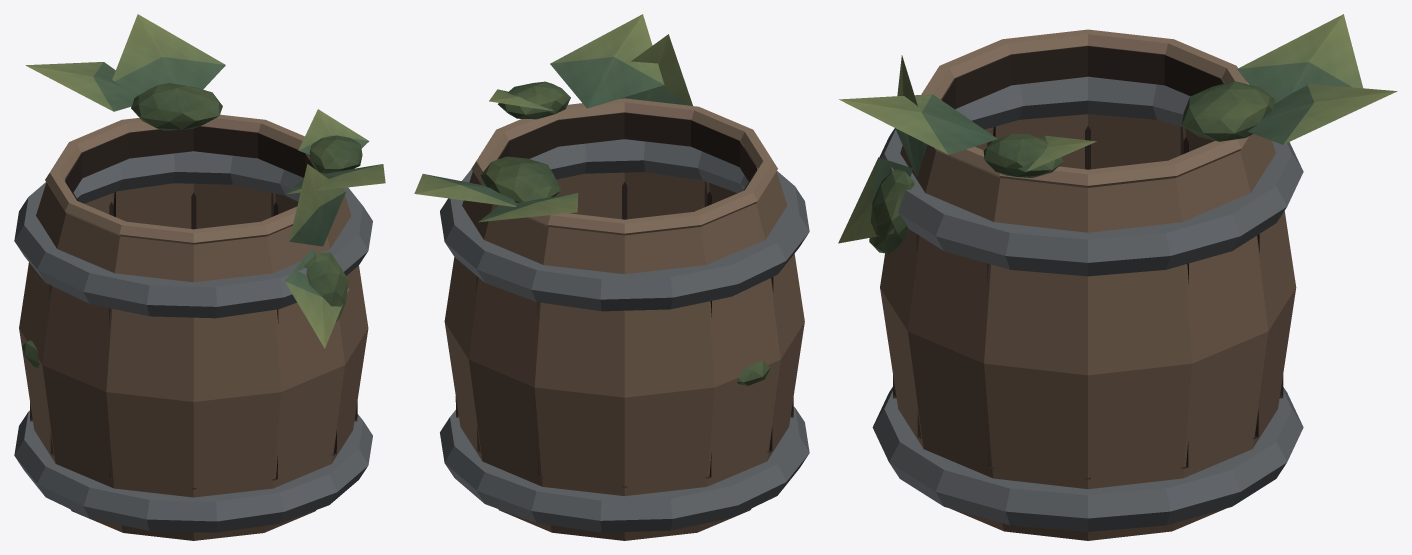
The model's file is kit_open_barrel.glb.
The picture shows the model from 3 angles, left to right: view 1: azimuth 30°, elevation 25°; view 2: azimuth 150°, elevation 25°; view 3: azimuth 270°, elevation 25°; orthographic projection. The views are drawn at different scales.
Parts seen in each view (by area): view 1: Open barrel staves, Open barrel iron hoop.001, Open barrel iron hoop, Open barrel rim, Barrel inner lip, Woodland shared curved ivy leaf.021, Woodland shared moss cushion.011, Woodland shared curved ivy leaf.022, Woodland shared curved ivy leaf.023, Woodland shared curved ivy leaf.024, Woodland shared moss cushion.012, Woodland shared moss cushion.009 (+2 smaller); view 2: Open barrel staves, Open barrel iron hoop.001, Open barrel iron hoop, Open barrel rim, Barrel inner lip, Woodland shared curved ivy leaf.018, Woodland shared moss cushion.011, Woodland shared curved ivy leaf.023, Woodland shared curved ivy leaf.021, Woodland shared moss cushion.009, Woodland shared curved ivy leaf.022, Woodland shared moss cushion.008 (+1 smaller); view 3: Open barrel staves, Open barrel iron hoop.001, Open barrel iron hoop, Open barrel rim, Barrel inner lip, Woodland shared curved ivy leaf.022, Woodland shared curved ivy leaf.018, Woodland shared curved ivy leaf.021, Woodland shared moss cushion.011, Woodland shared moss cushion.012, Woodland shared moss cushion.009, Woodland shared curved ivy leaf.024 (+2 smaller).
Boxes of the visible parts, box(x1,y1,x2,y2) form: Open barrel staves: box(19, 158, 368, 540); Open barrel iron hoop.001: box(14, 151, 372, 318); Open barrel iron hoop: box(14, 410, 372, 532); Open barrel rim: box(45, 114, 325, 244); Barrel inner lip: box(65, 126, 315, 201); Woodland shared curved ivy leaf.021: box(112, 14, 225, 93); Woodland shared moss cushion.011: box(131, 83, 222, 130); Woodland shared curved ivy leaf.022: box(25, 62, 141, 111); Woodland shared curved ivy leaf.023: box(289, 164, 345, 246); Woodland shared curved ivy leaf.024: box(284, 249, 348, 348); Woodland shared moss cushion.012: box(304, 252, 348, 328); Woodland shared moss cushion.009: box(309, 135, 362, 173); Open barrel staves: box(444, 147, 804, 540); Open barrel iron hoop.001: box(440, 139, 809, 311); Open barrel iron hoop: box(440, 406, 809, 532); Open barrel rim: box(471, 98, 777, 235); Barrel inner lip: box(498, 113, 757, 190); Woodland shared curved ivy leaf.018: box(550, 14, 664, 108); Woodland shared moss cushion.011: box(480, 156, 560, 202); Woodland shared curved ivy leaf.023: box(619, 34, 692, 105); Woodland shared curved ivy leaf.021: box(414, 174, 516, 206); Woodland shared moss cushion.009: box(498, 81, 570, 119); Woodland shared curved ivy leaf.022: box(478, 193, 578, 222); Woodland shared moss cushion.008: box(737, 360, 770, 385); Open barrel staves: box(880, 85, 1296, 540); Open barrel iron hoop.001: box(879, 76, 1303, 276); Open barrel iron hoop: box(872, 387, 1303, 531); Open barrel rim: box(921, 29, 1248, 187); Barrel inner lip: box(942, 46, 1223, 109); Woodland shared curved ivy leaf.022: box(1237, 14, 1362, 103); Woodland shared curved ivy leaf.018: box(839, 94, 997, 154); Woodland shared curved ivy leaf.021: box(1248, 84, 1397, 144); Woodland shared moss cushion.011: box(1181, 81, 1274, 141); Woodland shared moss cushion.012: box(869, 169, 914, 253); Woodland shared moss cushion.009: box(983, 134, 1063, 177); Woodland shared curved ivy leaf.024: box(838, 157, 912, 243).
Bounding box in the file's own units: 0.642 × 0.717 × 0.8339.
Materials: 7 (3 with a texture image).
